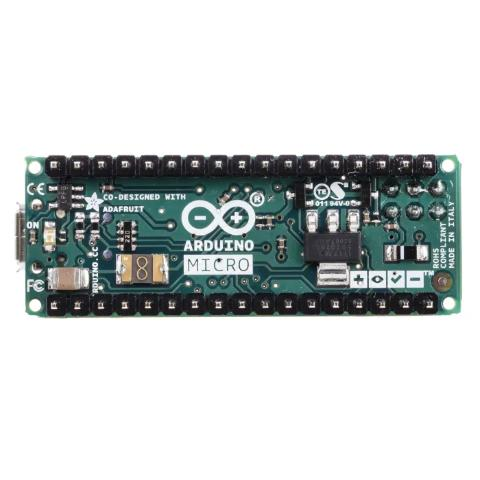Arduino-Micro: (6, 149, 466, 336)
